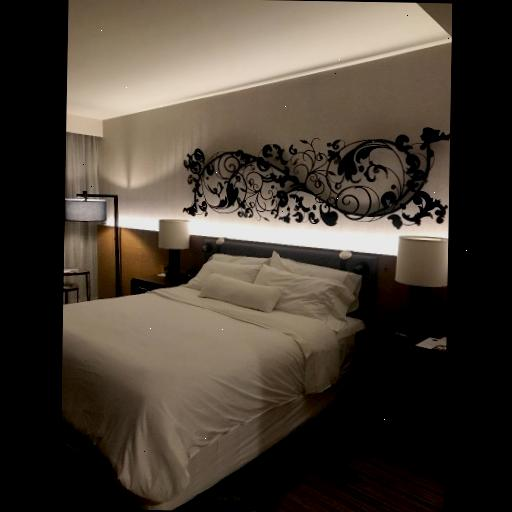clean_bed: (59, 233, 373, 509)
lamp: (66, 187, 118, 296), (394, 236, 448, 334), (152, 210, 192, 278)
organised_pillow: (185, 248, 362, 334)
